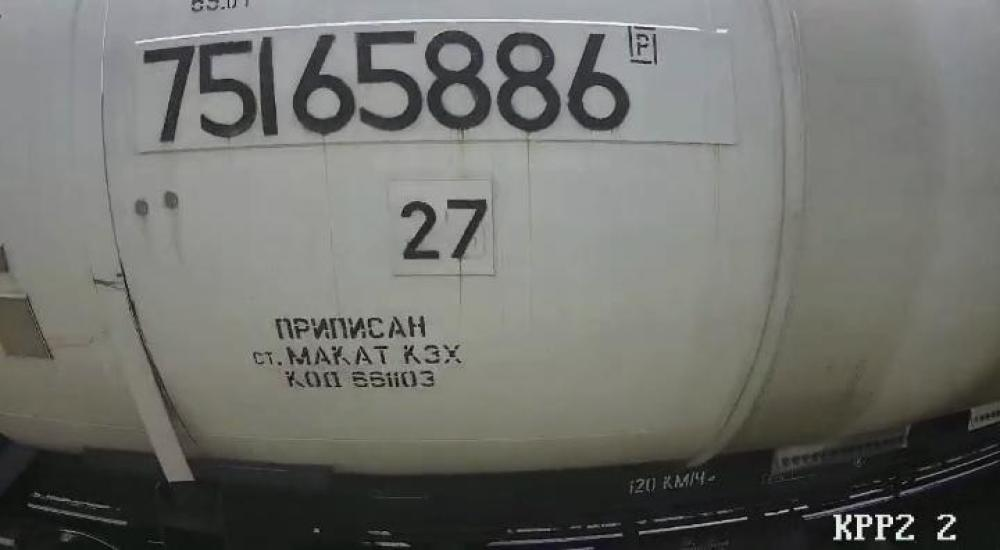Wagon-number: (142, 24, 636, 141)
